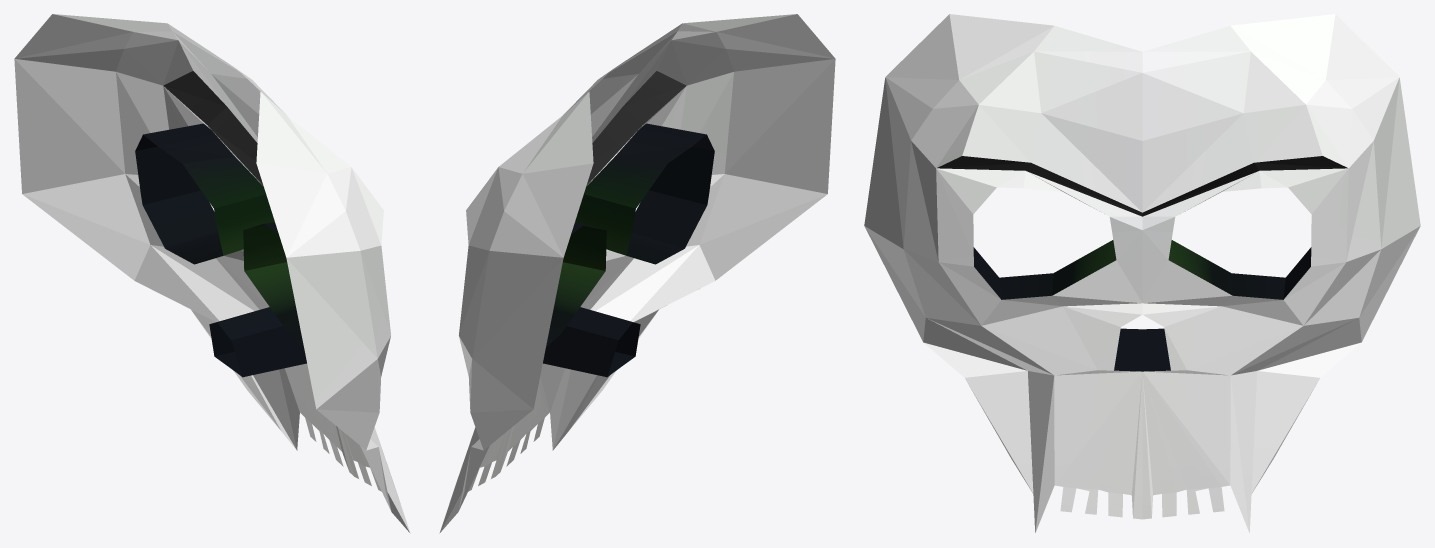
Rendered from SKULL MASK.fbx.
3 views of the same model, side by side, from view 1: azimuth 30°, elevation 25°; view 2: azimuth 150°, elevation 25°; view 3: azimuth 270°, elevation 25° (orthographic). The views are drawn at different scales.
Parts seen in each view (by area): view 1: SKULL_MASK; view 2: SKULL_MASK; view 3: SKULL_MASK.
Boxes of the visible parts, bbox=[...] form: SKULL_MASK: bbox=[14, 14, 410, 533]; SKULL_MASK: bbox=[439, 14, 835, 533]; SKULL_MASK: bbox=[864, 14, 1420, 532].
Bounding box in the file's own units: 9.27 × 20.38 × 23.16.
